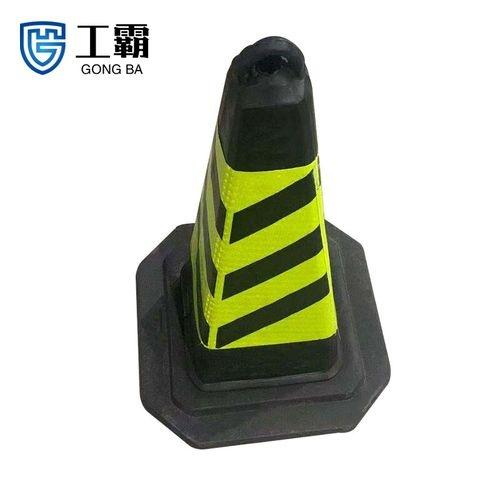cone_barrel: (150, 31, 371, 408)
